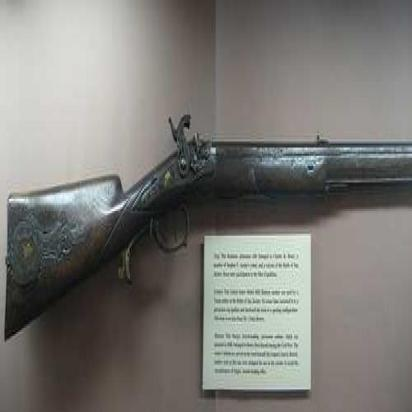Gun: (2, 105, 412, 358)
